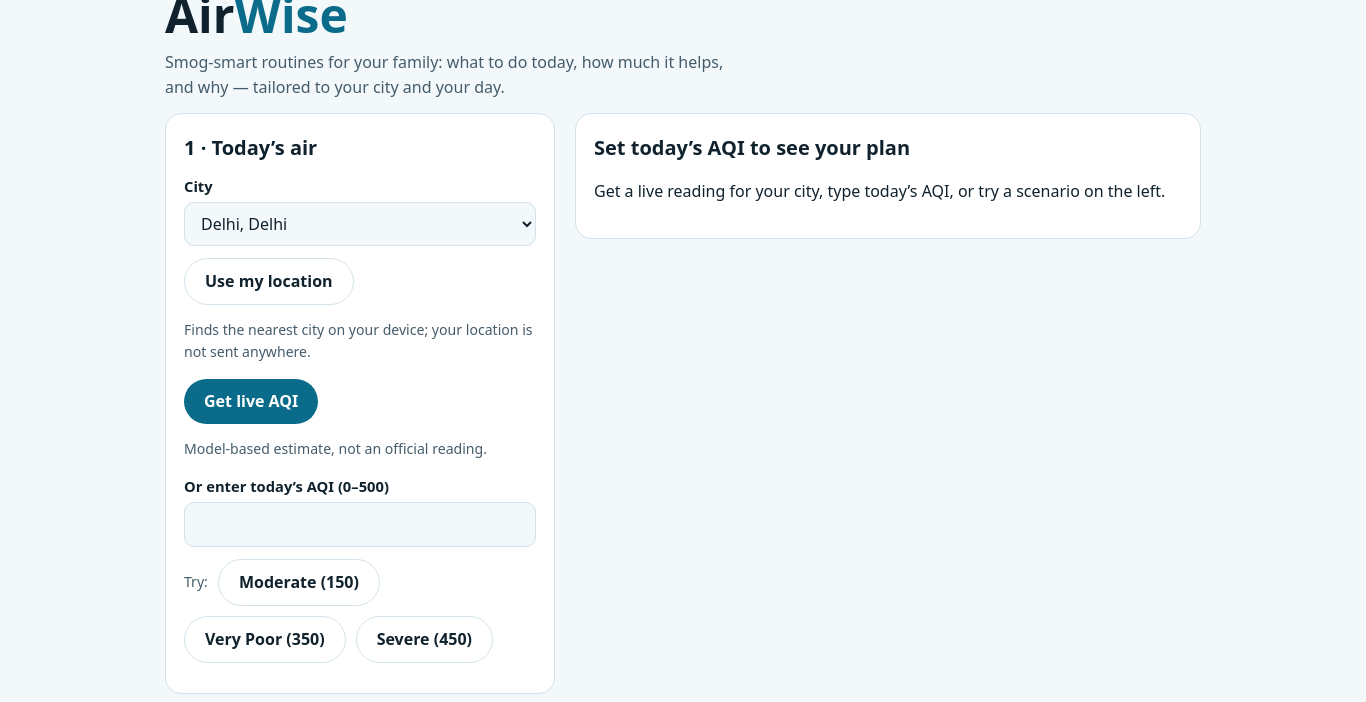
Test case: a dynamic assistant › filters actions by area and says when a group is empty
Click the button "Very Poor (350)".
click(265, 639)  # box [184,616,346,662]
(page scrolled)
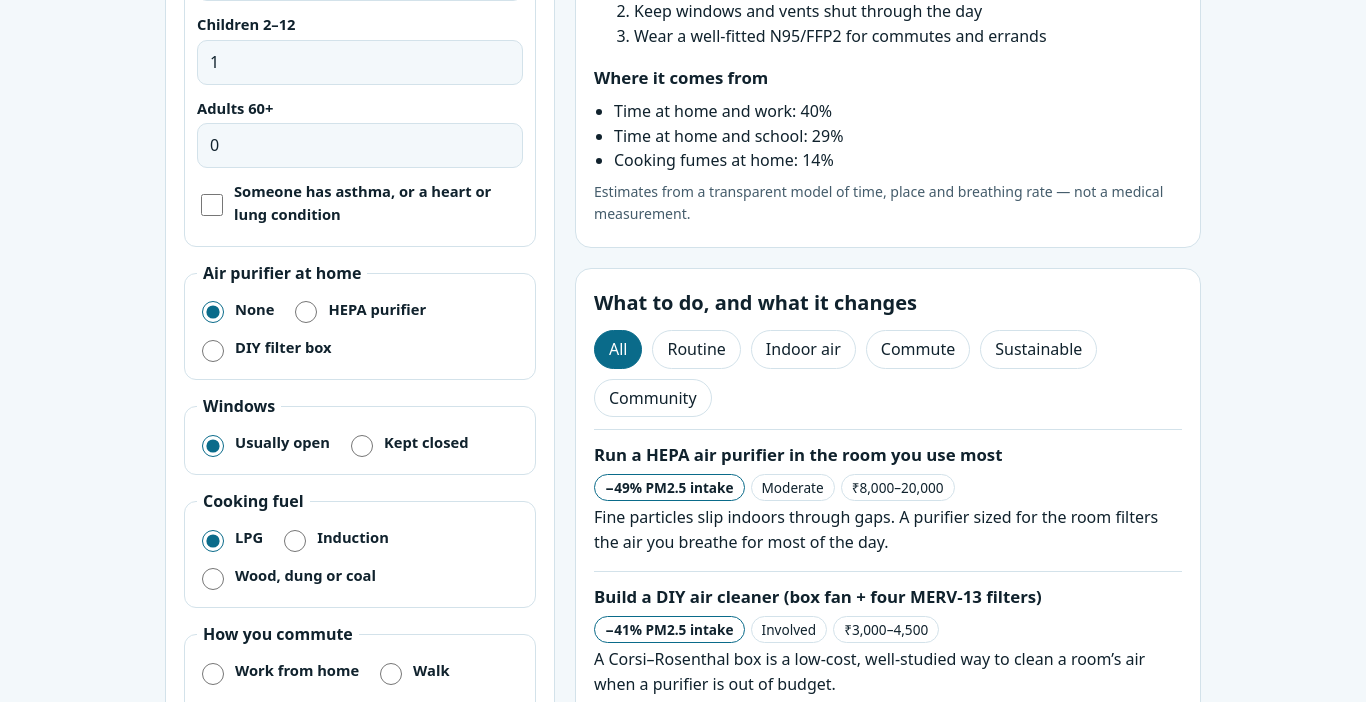
Click the button "Sustainable".
click(1039, 349)  # box [980,330,1097,369]
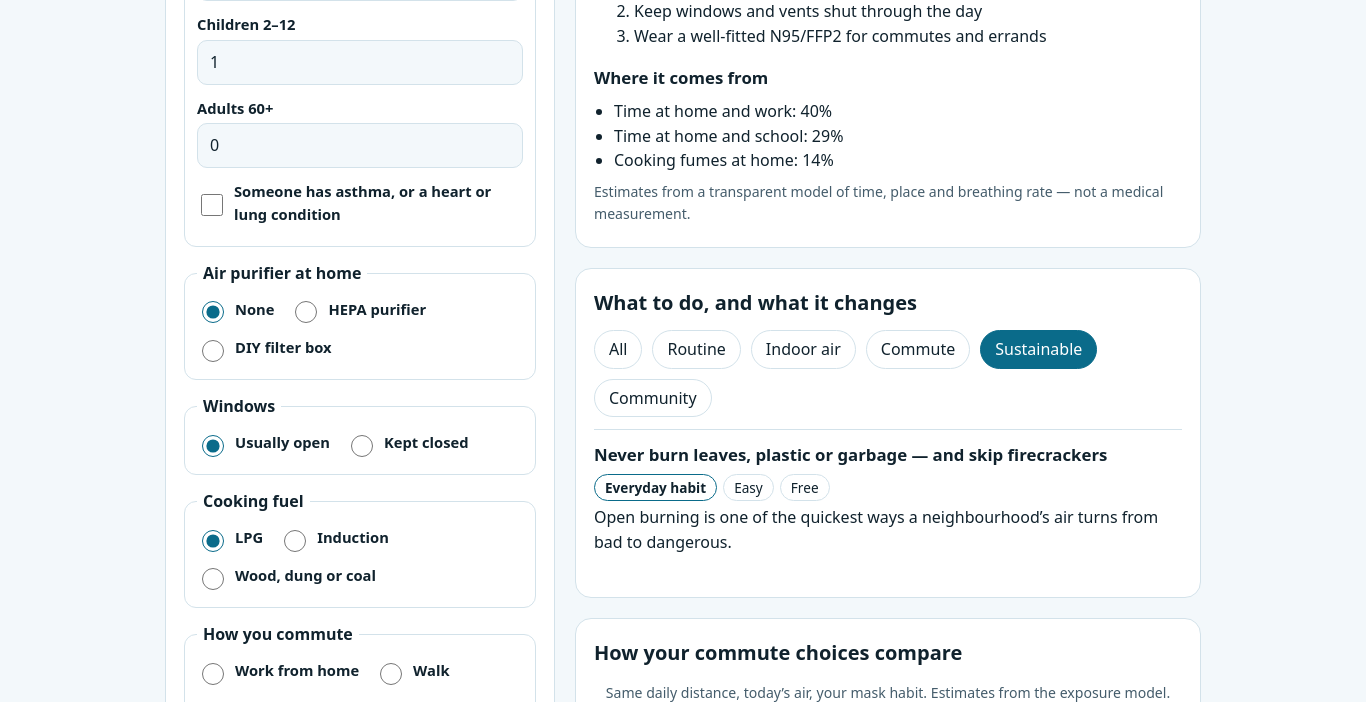
Result: the heading "Never burn leaves" is shown at [594,443,1107,466]
Click the radio button labelled "Work from home".
click(213, 674)  # box [202,663,224,685]
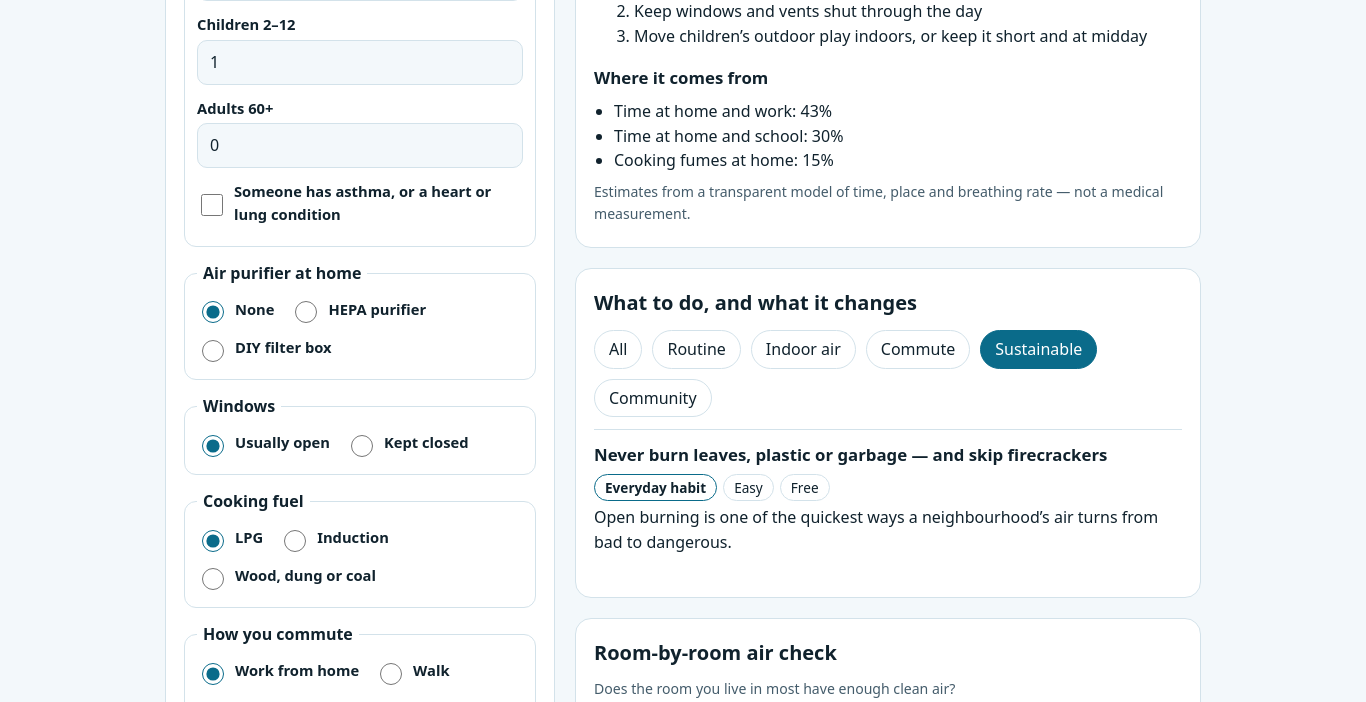
Click the button "Commute".
click(918, 349)  # box [866,330,970,369]
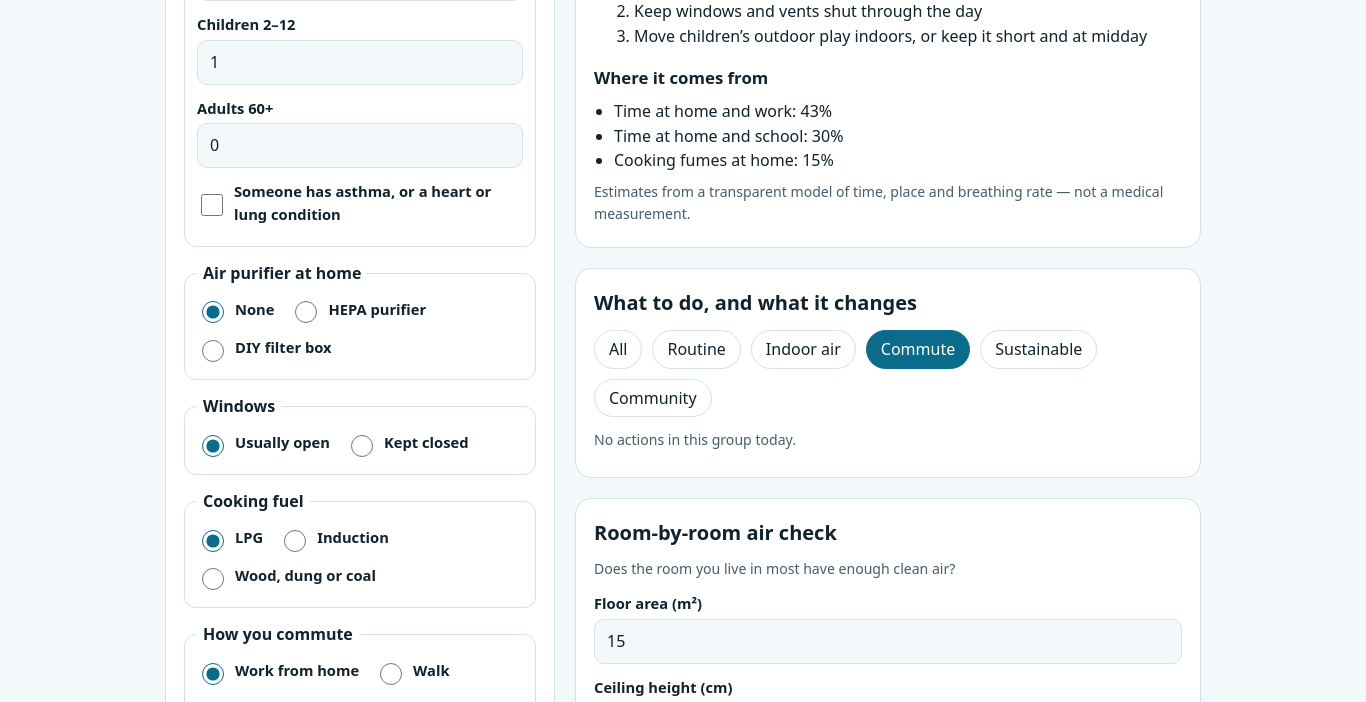
Result: the text "No actions in this group today." is shown at [594,430,796,449]
Click the button "All".
click(618, 349)  # box [594,330,642,369]
(page scrolled)
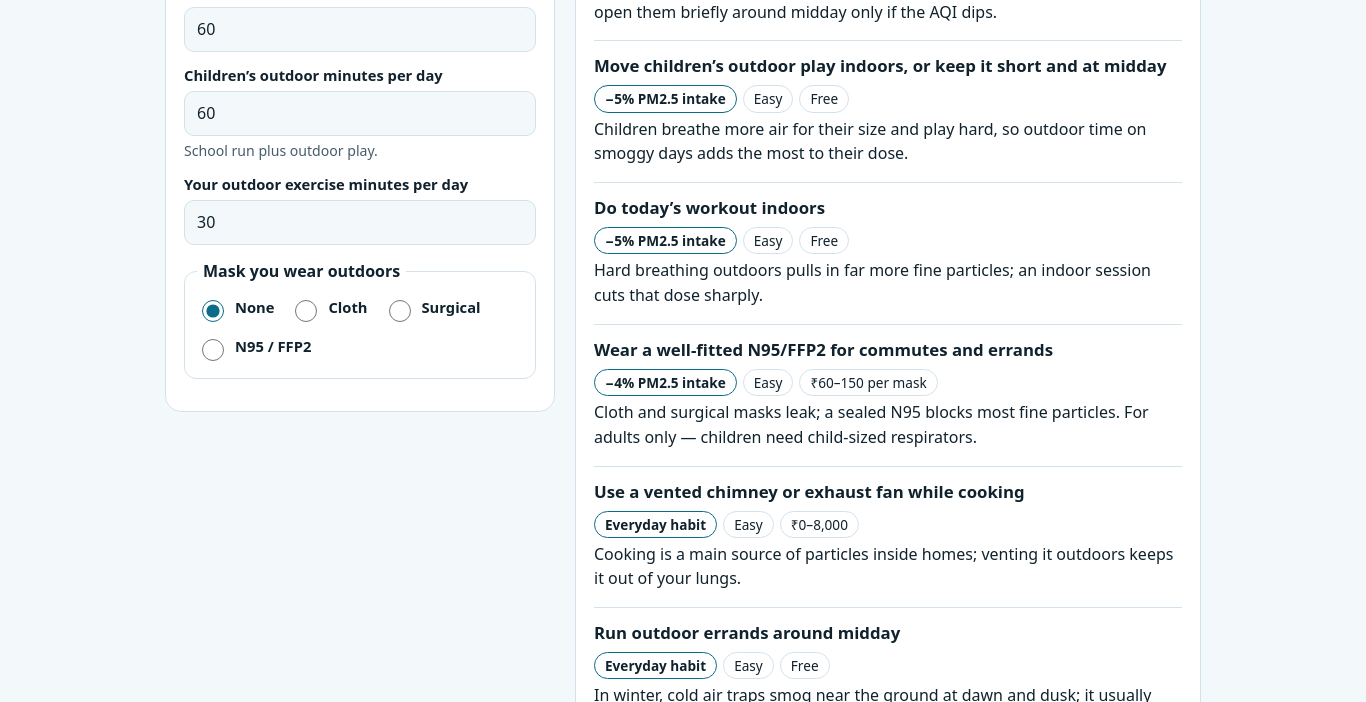
Result: the heading "Wear a well-fitted N95/FFP2 for commutes and errands" is shown at [594,338,1053,361]
